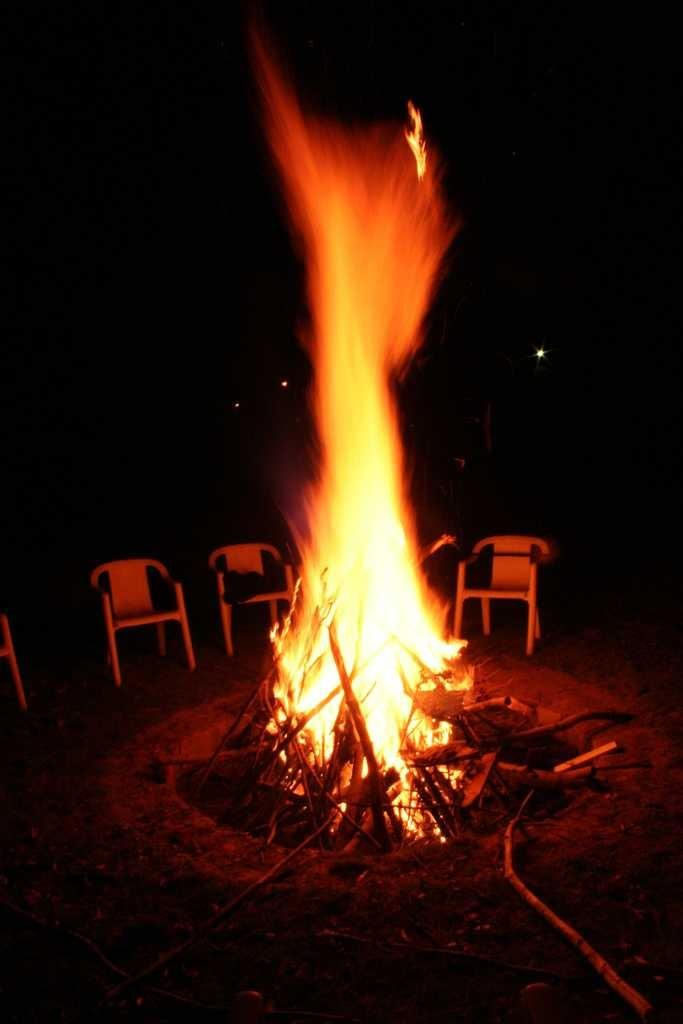fire: (257, 87, 469, 840)
